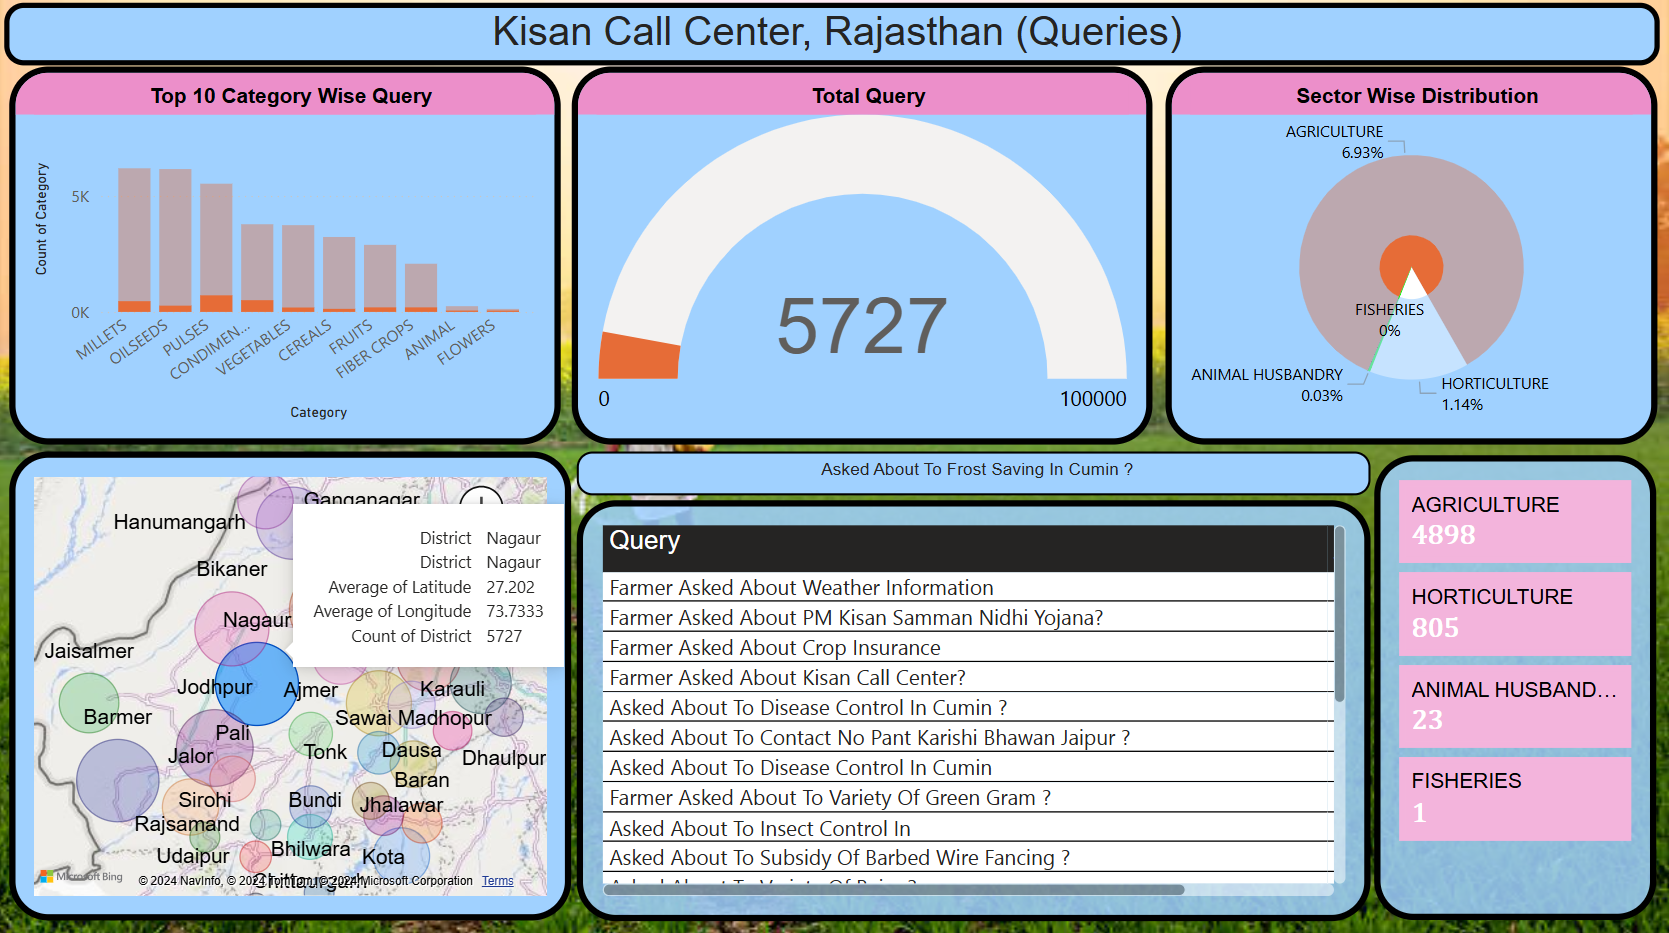

This screenshot's page, from the dashboard's own definition file:
{"tool":"powerbi","page":{"name":"Dashboard","canvas":[1280,720],"ordinal":0},"visuals":[{"type":"map","title":"District Wise Query","fields":{"Size":["CountNonNull(Cleaned.District)"],"Category":["Location (2).District"],"Series":["Location (2).District"],"Y":["Avg(Location (2).Latitude)"],"X":["Avg(Location (2).Longitude)"]},"box":[8.4,346.2,430.7,359.5],"z":0},{"type":"clusteredColumnChart","title":"Top 10 Category Wise Query","fields":{"Category":["Table1_15.Category"],"Y":["CountNonNull(Table1_15.Category)"]},"box":[8.4,51.9,422.3,289.5],"z":1000},{"type":"gauge","title":"Total Query","fields":{"Y":["CountNonNull(Table1_15.Category)"]},"box":[439.1,51.9,445.2,289.5],"z":2000},{"type":"card","title":"Top 1 Query","fields":{"Values":["Min(Cleaned.Query)"]},"box":[443.1,346.9,608.1,33.8],"z":3000},{"type":"tableEx","fields":{"Values":["Cleaned.Query","CountNonNull(Cleaned.Query)"]},"box":[443,383.6,608,322.1],"z":4000},{"type":"pieChart","title":"Sector Wise Distribution","fields":{"Category":["Table1_15.Sector"],"Y":["CountNonNull(Table1_15.Sector)"]},"box":[894,51.9,376.4,289.5],"z":5000},{"type":"multiRowCard","fields":{"Values":["CountNonNull(Table1_15.Sector)","Table1_15.Sector"]},"box":[1054.4,349.9,216,355.9],"z":6000},{"type":"textbox","title":"Kisan Call Center, Rajasthan (Queries)","box":[4.8,2.4,1268,48.3],"z":7000}]}

Visuals, with their boxes in screenshot pixels (x1, y1, x2, y2), scaled from the page's 1280x720 canvas onto the 1669x933 screenshot:
"District Wise Query" map: box=[11, 449, 573, 914]
"Top 10 Category Wise Query" clusteredColumnChart: box=[11, 67, 562, 442]
"Total Query" gauge: box=[573, 67, 1153, 442]
"Top 1 Query" card: box=[578, 450, 1371, 493]
tableEx - Cleaned.Query x CountNonNull(Cleaned.Query): box=[578, 497, 1370, 914]
"Sector Wise Distribution" pieChart: box=[1166, 67, 1656, 442]
multiRowCard - CountNonNull(Table1_15.Sector) x Table1_15.Sector: box=[1375, 453, 1656, 915]
"Kisan Call Center, Rajasthan (Queries)" textbox: box=[6, 3, 1660, 66]
